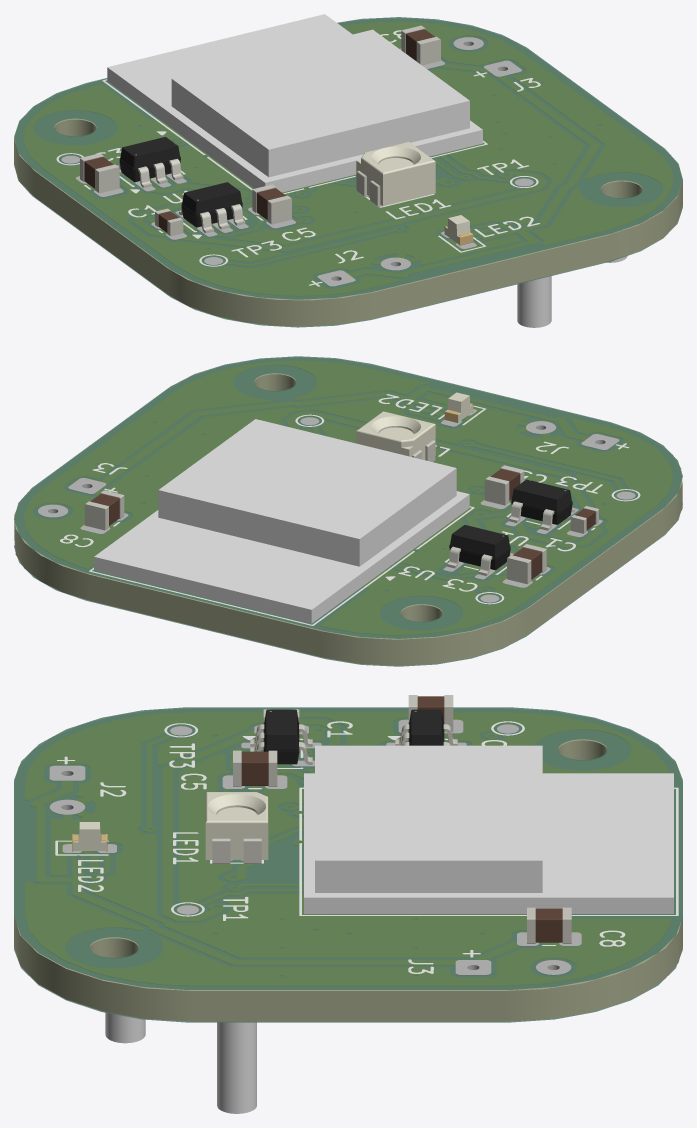
Rendered from board.glb.
3 views of the same model, one above another, from view 1: azimuth 30°, elevation 25°; view 2: azimuth 150°, elevation 25°; view 3: azimuth 270°, elevation 25° (orthographic). The views are drawn at different scales.
Visible parts, largest first — view 1: =>[0:1:1:27], =>[0:1:1:22]_fd98b5, =>[0:1:1:7]_b69e5b, =>[0:1:1:29]_04e270, =>[0:1:1:7], =>[0:1:1:29]_02ce9d, =>[0:1:1:7]_06b10e, =>[0:1:1:29]_3a3c77, =>[0:1:1:29]_8c35d7, =>[0:1:1:7]_a94459, =>[0:1:1:22]_02618b, =>[0:1:1:7]_fa2fc9 (+14 smaller); view 2: =>[0:1:1:27], =>[0:1:1:22]_fd98b5, =>[0:1:1:7]_b69e5b, =>[0:1:1:29]_04e270, =>[0:1:1:7], =>[0:1:1:29]_07a48b, =>[0:1:1:7]_4703bd, =>[0:1:1:29]_2d1735, =>[0:1:1:29]_8c35d7, =>[0:1:1:7]_d55620, =>[0:1:1:7]_a94459, =>[0:1:1:7]_fa2fc9 (+15 smaller); view 3: =>[0:1:1:27], =>[0:1:1:22]_fd98b5, =>[0:1:1:7], =>[0:1:1:7]_b69e5b, =>[0:1:1:29]_04e270, =>[0:1:1:29]_6ce584, =>[0:1:1:7]_d2dc64, =>[0:1:1:29]_6c6a0b, =>[0:1:1:29]_e81ff1, =>[0:1:1:19]_1_bd1ac4, =>[0:1:1:22]_02618b, =>[0:1:1:22]_2f7412 (+11 smaller).
Part boxes in pixels (x1=…): =>[0:1:1:27]: x1=14, y1=17, x2=682, y2=299; =>[0:1:1:22]_fd98b5: x1=24, y1=22, x2=672, y2=295; =>[0:1:1:7]_b69e5b: x1=172, y1=29, x2=469, y2=149; =>[0:1:1:29]_04e270: x1=14, y1=18, x2=681, y2=300; =>[0:1:1:7]: x1=107, y1=14, x2=482, y2=182; =>[0:1:1:29]_02ce9d: x1=376, y1=235, x2=606, y2=317; =>[0:1:1:7]_06b10e: x1=268, y1=100, x2=469, y2=177; =>[0:1:1:29]_3a3c77: x1=167, y1=268, x2=375, y2=326; =>[0:1:1:29]_8c35d7: x1=34, y1=171, x2=167, y2=293; =>[0:1:1:7]_a94459: x1=171, y1=79, x2=268, y2=176; =>[0:1:1:22]_02618b: x1=348, y1=64, x2=599, y2=276; =>[0:1:1:7]_fa2fc9: x1=107, y1=67, x2=265, y2=188; =>[0:1:1:27]: x1=14, y1=356, x2=682, y2=638; =>[0:1:1:22]_fd98b5: x1=24, y1=361, x2=672, y2=634; =>[0:1:1:7]_b69e5b: x1=159, y1=419, x2=456, y2=538; =>[0:1:1:29]_04e270: x1=14, y1=357, x2=682, y2=639; =>[0:1:1:7]: x1=94, y1=491, x2=469, y2=609; =>[0:1:1:29]_07a48b: x1=90, y1=575, x2=320, y2=656; =>[0:1:1:7]_4703bd: x1=158, y1=490, x2=359, y2=566; =>[0:1:1:29]_2d1735: x1=321, y1=608, x2=529, y2=665; =>[0:1:1:29]_8c35d7: x1=529, y1=510, x2=662, y2=633; =>[0:1:1:7]_d55620: x1=94, y1=557, x2=311, y2=623; =>[0:1:1:7]_a94459: x1=359, y1=468, x2=456, y2=566; =>[0:1:1:7]_fa2fc9: x1=311, y1=494, x2=469, y2=623; =>[0:1:1:27]: x1=14, y1=707, x2=682, y2=989; =>[0:1:1:22]_fd98b5: x1=25, y1=713, x2=670, y2=984; =>[0:1:1:7]: x1=304, y1=773, x2=673, y2=897; =>[0:1:1:7]_b69e5b: x1=315, y1=745, x2=542, y2=860; =>[0:1:1:29]_04e270: x1=14, y1=709, x2=682, y2=990; =>[0:1:1:29]_6ce584: x1=192, y1=991, x2=504, y2=1021; =>[0:1:1:7]_d2dc64: x1=304, y1=897, x2=673, y2=913; =>[0:1:1:29]_6c6a0b: x1=14, y1=917, x2=192, y2=1021; =>[0:1:1:29]_e81ff1: x1=504, y1=917, x2=682, y2=1021; =>[0:1:1:19]_1_bd1ac4: x1=217, y1=1022, x2=256, y2=1113; =>[0:1:1:22]_02618b: x1=31, y1=781, x2=517, y2=964; =>[0:1:1:22]_2f7412: x1=163, y1=720, x2=339, y2=920.
Bounding box in the file's own units: 0.03 × 0.00908 × 0.03.
